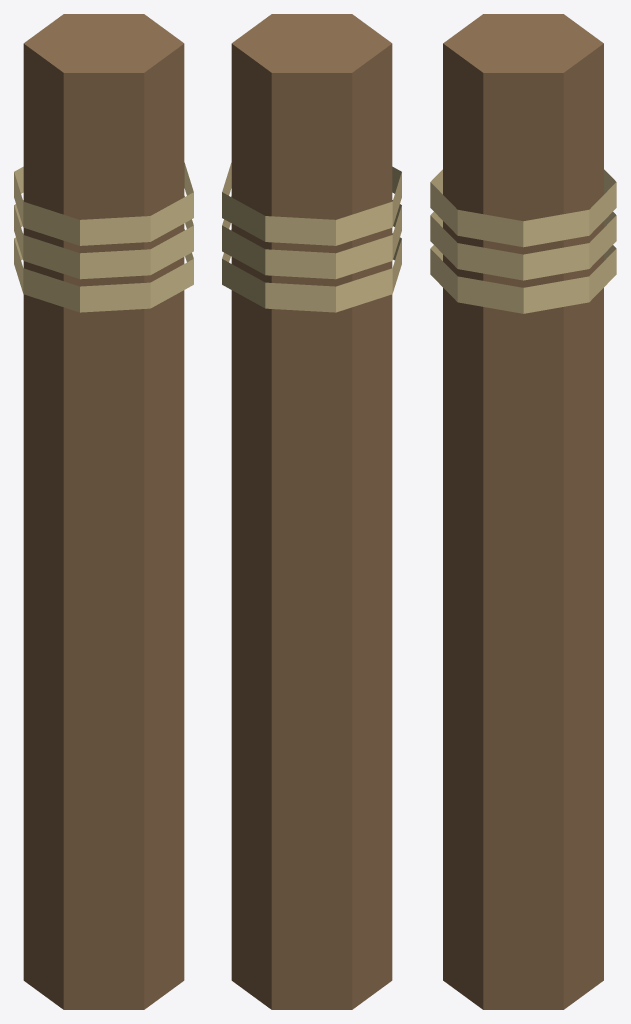
File: pen_fence_00.glb
3 views of the same model, side by side, from view 1: azimuth 30°, elevation 25°; view 2: azimuth 150°, elevation 25°; view 3: azimuth 270°, elevation 25° (orthographic).
Visible parts, largest first — view 1: pen_fence_00; view 2: pen_fence_00; view 3: pen_fence_00.
Part boxes in pixels (box(x1,y1,x2,y2)): pen_fence_00: box(14, 14, 193, 1009); pen_fence_00: box(222, 14, 401, 1009); pen_fence_00: box(430, 14, 616, 1009).
Size of the model in its own units: 0.162 by 0.9 by 0.162.
